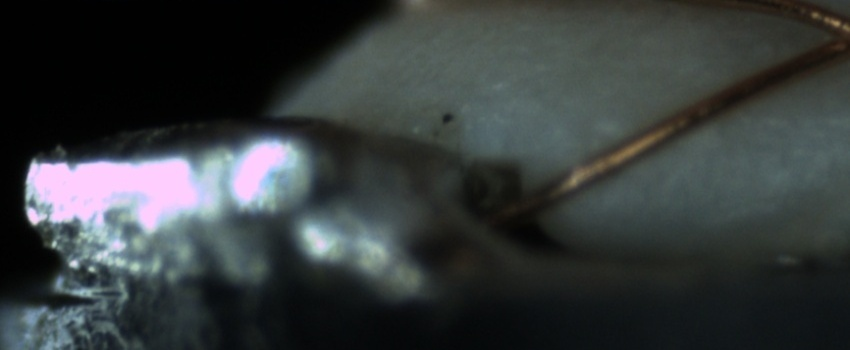CL: (801, 2, 850, 66)
